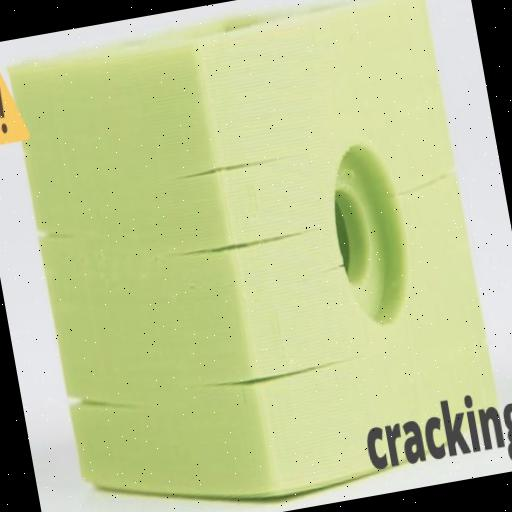cracks: (186, 345, 362, 402), (160, 214, 324, 270), (170, 143, 298, 191), (66, 374, 150, 427), (386, 168, 456, 205), (35, 216, 80, 252), (316, 255, 344, 275)
